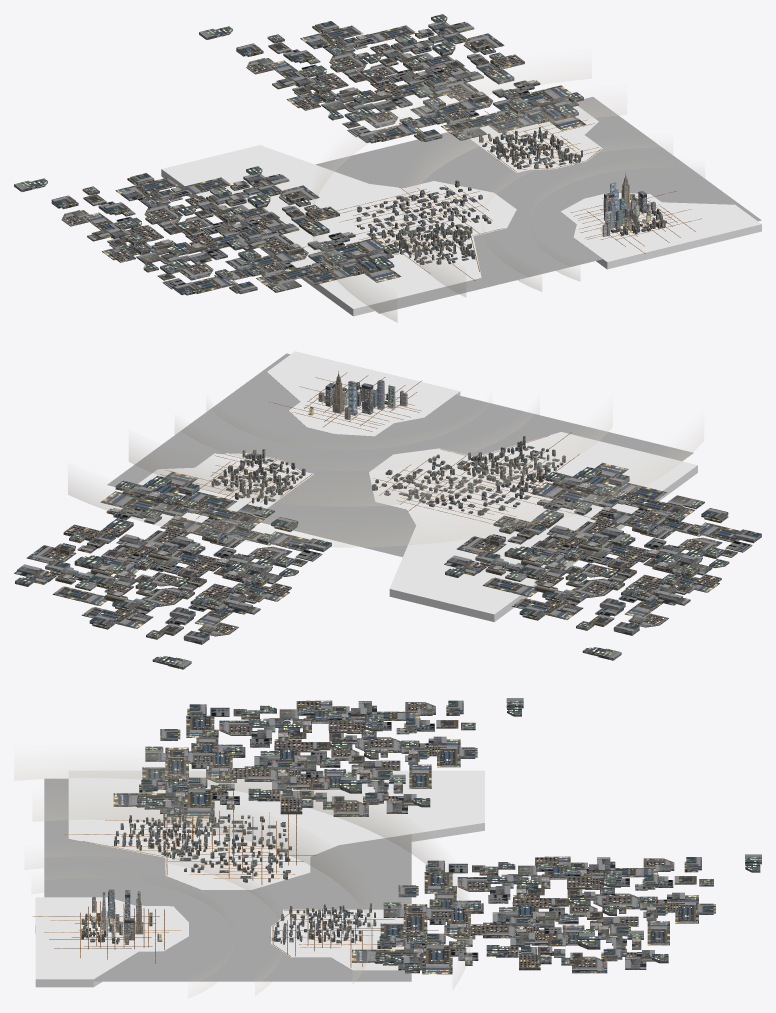
File: car_sedan.glb
The picture shows the model from 3 angles, top to bottom: view 1: azimuth 30°, elevation 25°; view 2: azimuth 150°, elevation 25°; view 3: azimuth 270°, elevation 25°; orthographic projection. The views are drawn at different scales.
Size of the model in its own units: 40.13 by 4.3 by 43.84.
Materials: 8 (5 with a texture image).
